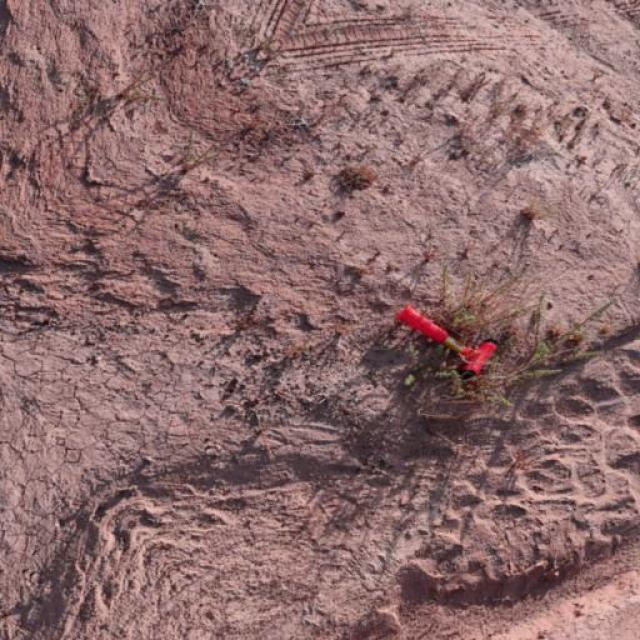mallet: (395, 302, 500, 380)
